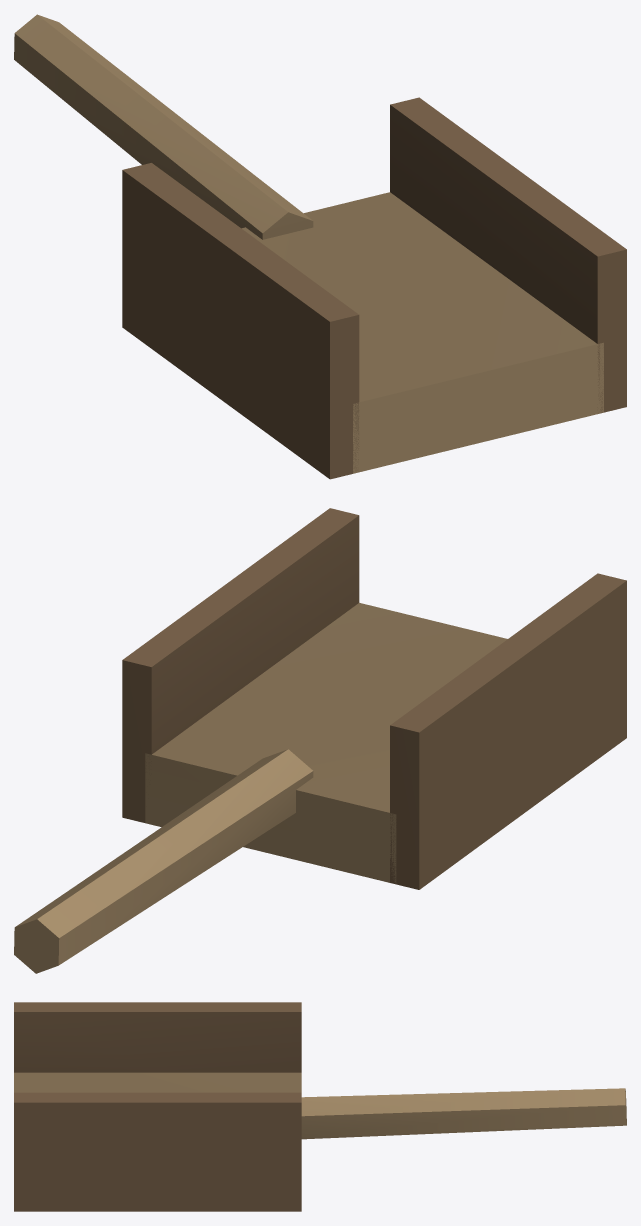
The model's file is channel_scoop.glb.
The picture shows the model from 3 angles, top to bottom: view 1: azimuth 30°, elevation 25°; view 2: azimuth 150°, elevation 25°; view 3: azimuth 270°, elevation 25°; orthographic projection. The views are drawn at different scales.
Parts seen in each view (by area): view 1: channel_scoop; view 2: channel_scoop; view 3: channel_scoop.
Part boxes in pixels (<box>): channel_scoop: <box>14,14,626,479</box>; channel_scoop: <box>14,508,626,973</box>; channel_scoop: <box>14,1002,626,1211</box>.
Bounding box in the file's own units: 0.355 × 0.18 × 0.9162.
